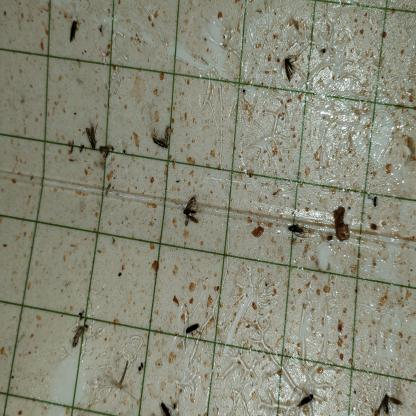prays_oleae: (176, 192, 202, 231), (285, 212, 310, 247), (280, 51, 300, 90), (150, 122, 174, 152), (70, 313, 89, 350), (83, 119, 98, 156), (65, 17, 83, 46), (376, 393, 402, 411), (184, 318, 204, 340), (297, 387, 317, 409), (97, 140, 115, 160), (157, 398, 177, 414)
